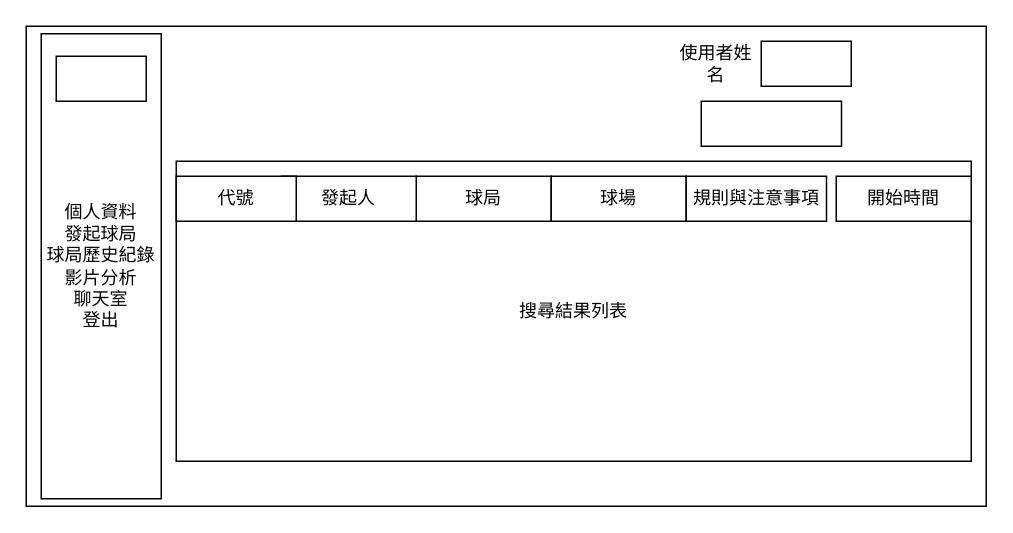
The diagram is 1013 pixels wide and 533 high, and some of its shapes have lost their labels. Each missing label, with the centre of its shape:
"EN" belongs at (805,63).
"搜尋框" belongs at (771,123).
"首頁" belongs at (100,78).
